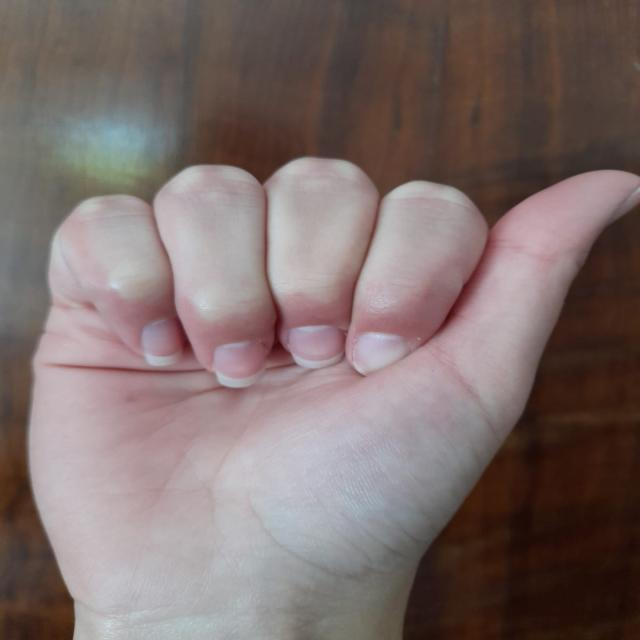A: (18, 132, 640, 622)
